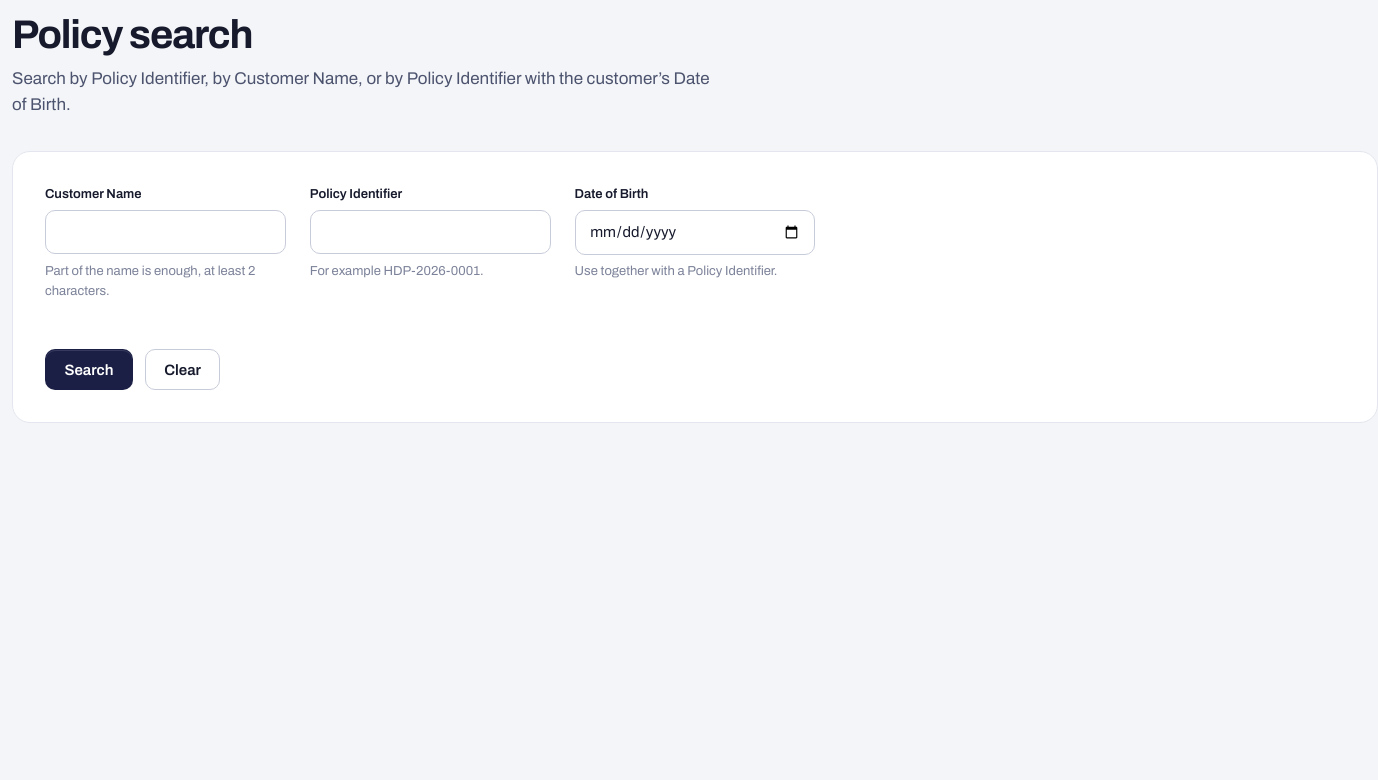
Test: PolicySearchPage › says so when nothing matches
Type "HDP-2026-9999" into the field labelled "Policy Identifier". click: (430, 232)
box: [310,210,551,254]
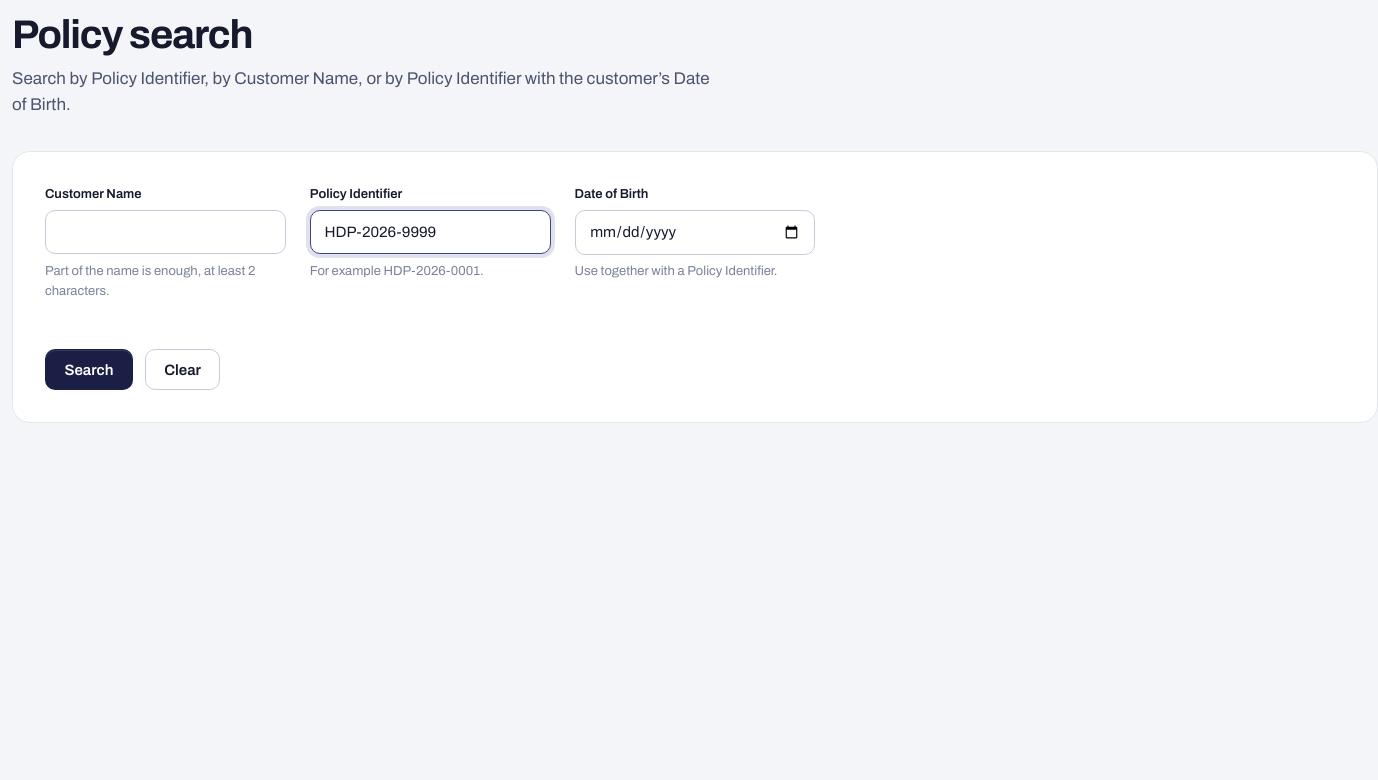
Click the button "Search". click: (89, 370)
box: [45,349,133,390]
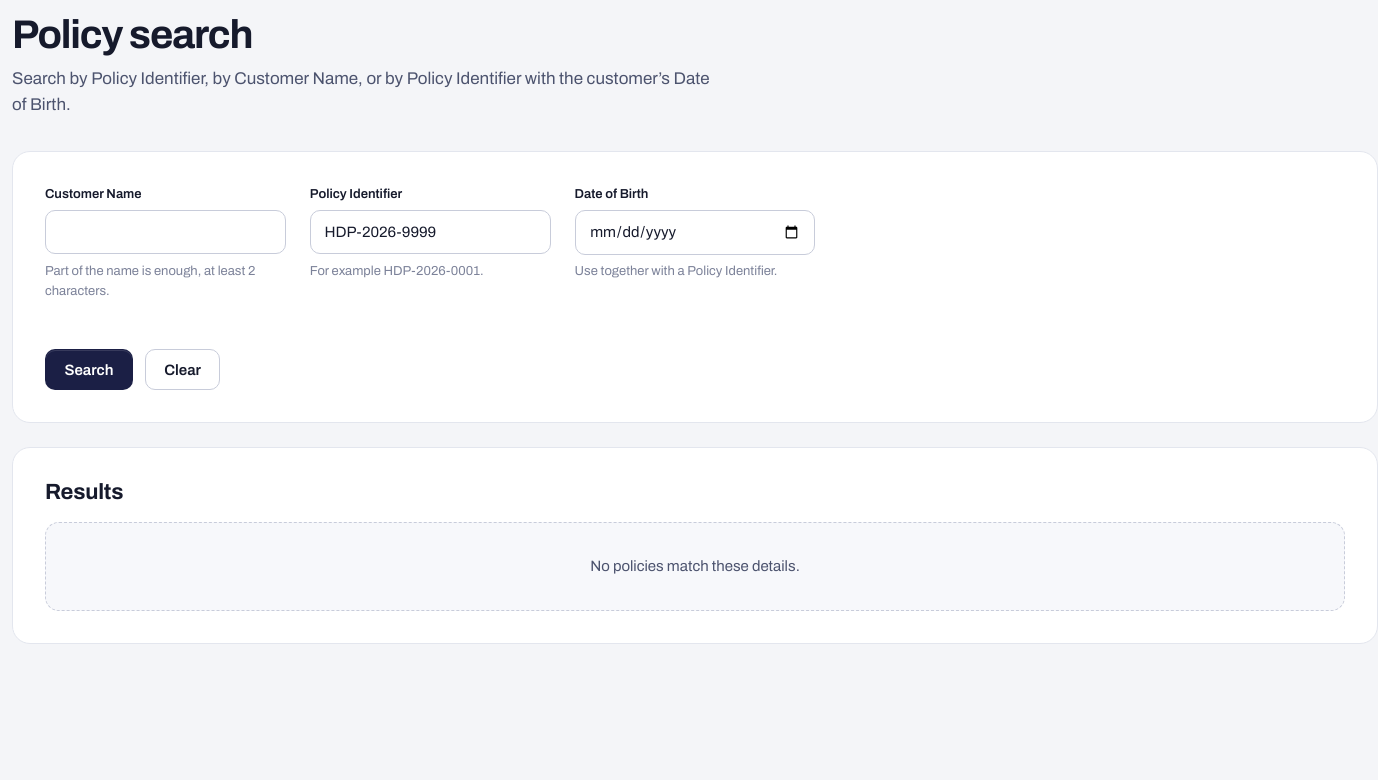
Expected: the text "No policies match these details." is shown, [45,522,1345,611]
